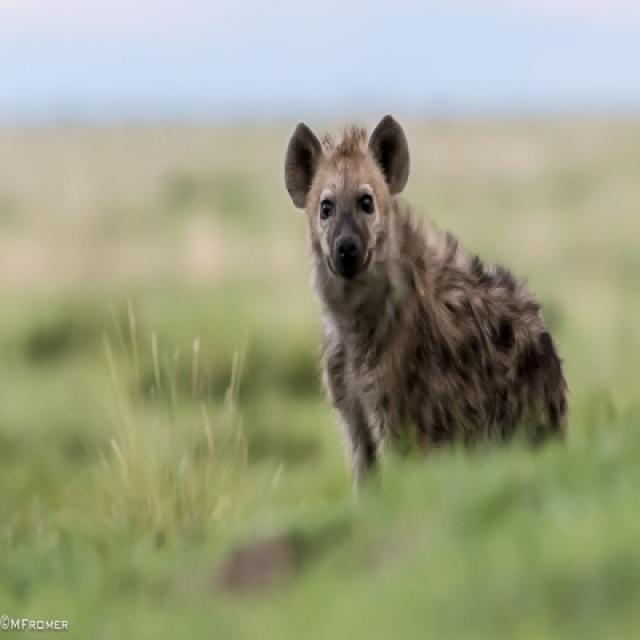hyena: (282, 117, 570, 486)
